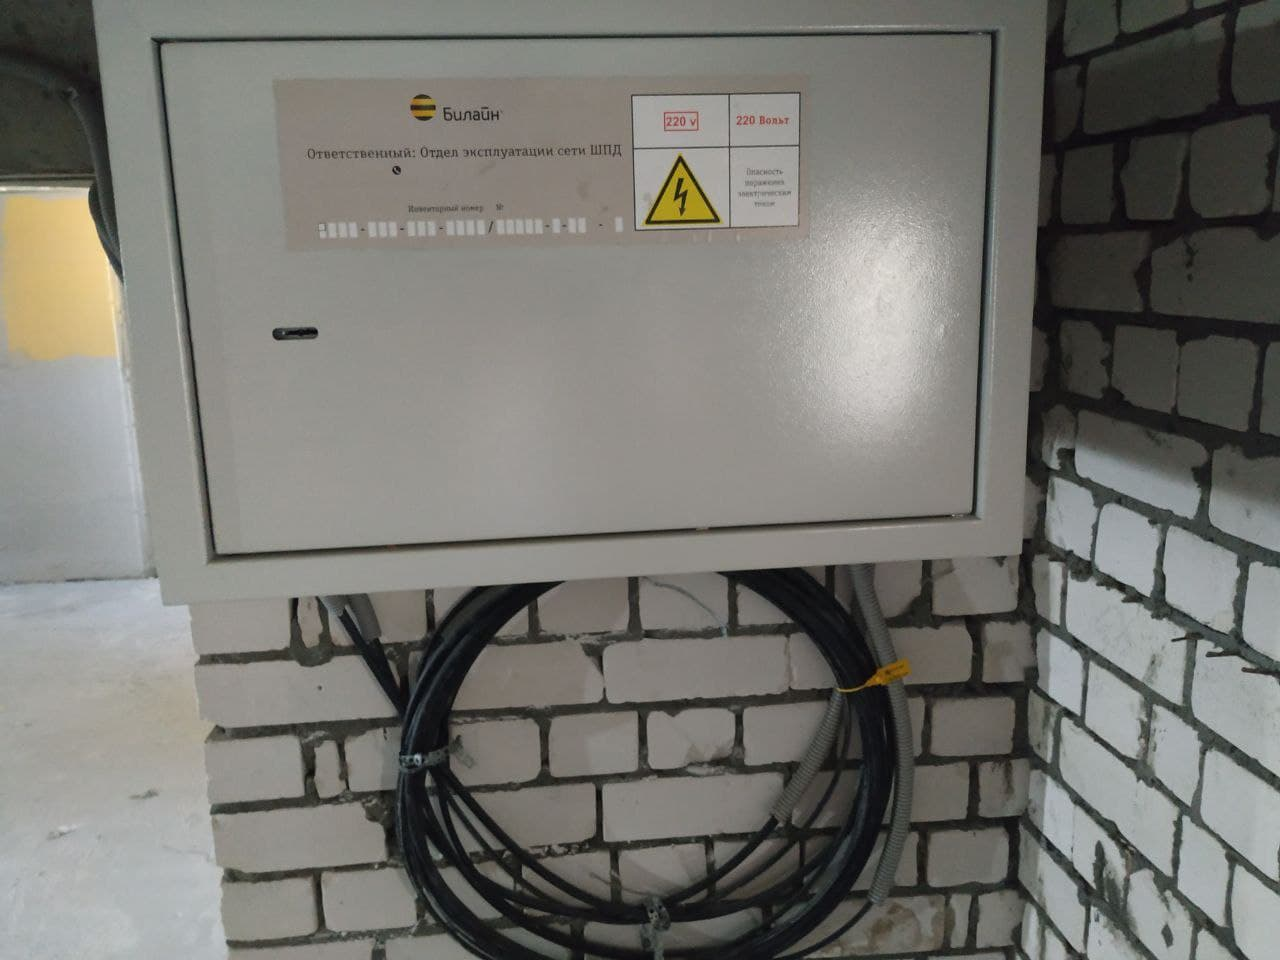shta-7m: (80, 8, 1053, 613)
